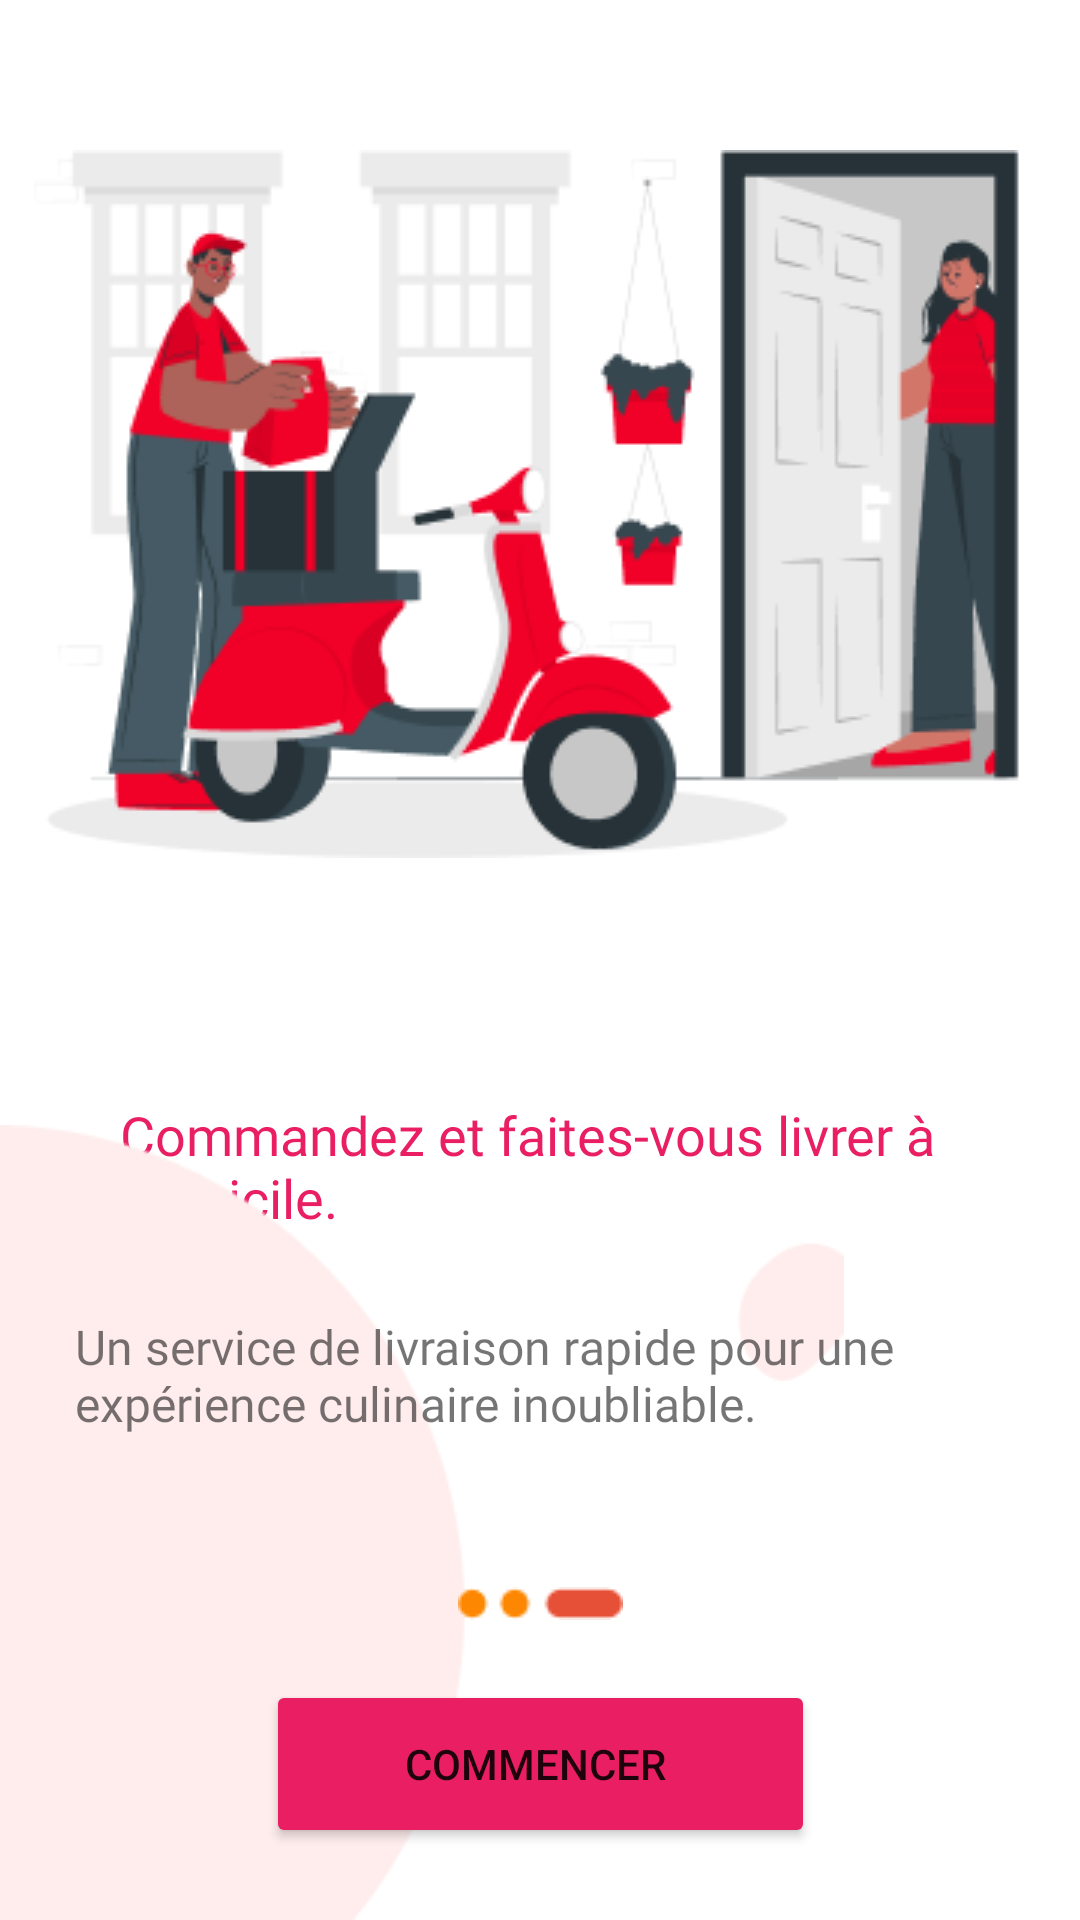

Icon bounding boxes for this 1080px×1920px phone screenshot, format (x1, y1, x2, y2):
page: (458, 1587, 623, 1620)
